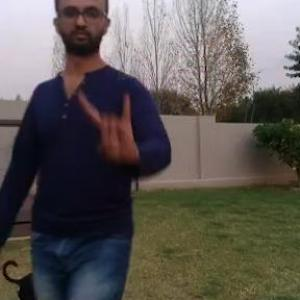takeoff-hand: (76, 85, 142, 169)
